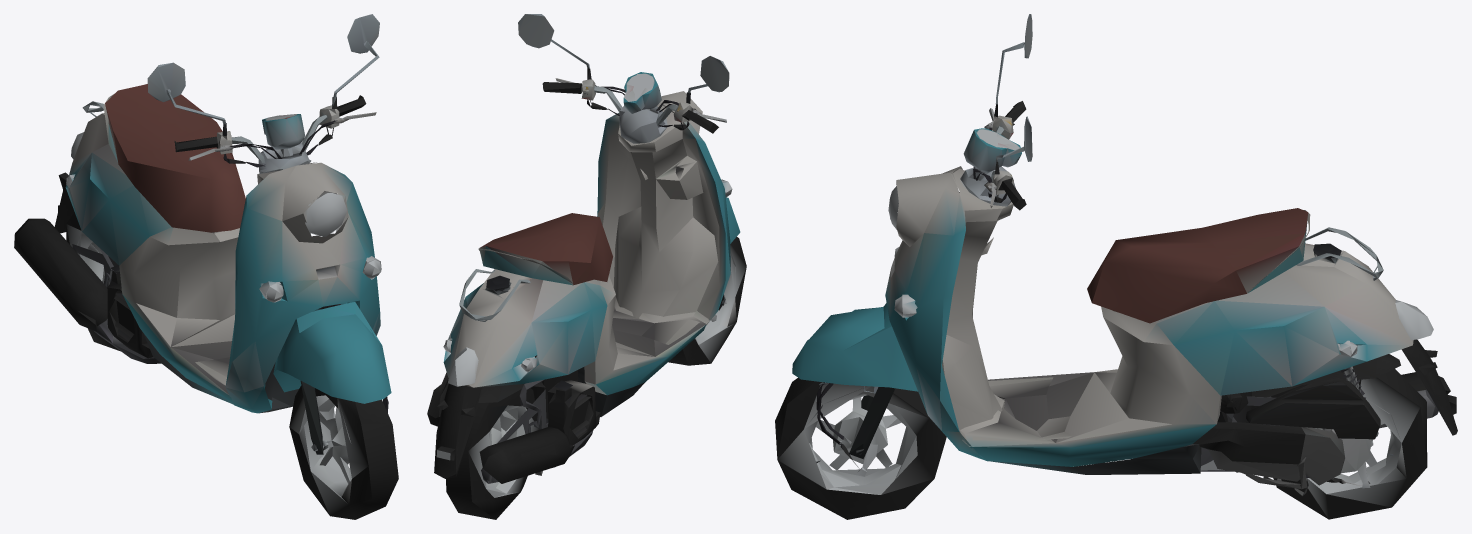
The model's file is scooter.glb.
3 views of the same model, side by side, from view 1: azimuth 30°, elevation 25°; view 2: azimuth 150°, elevation 25°; view 3: azimuth 270°, elevation 25° (orthographic). The views are drawn at different scales.
Visible parts, largest first — view 1: Mesh_0; view 2: Mesh_0; view 3: Mesh_0.
Boxes of the visible parts, x1,y1,x2,y2 form: Mesh_0: [14, 14, 398, 519]; Mesh_0: [427, 14, 746, 519]; Mesh_0: [775, 14, 1457, 519].
Bounding box in the file's own units: 0.7153 × 1.22 × 1.7.
